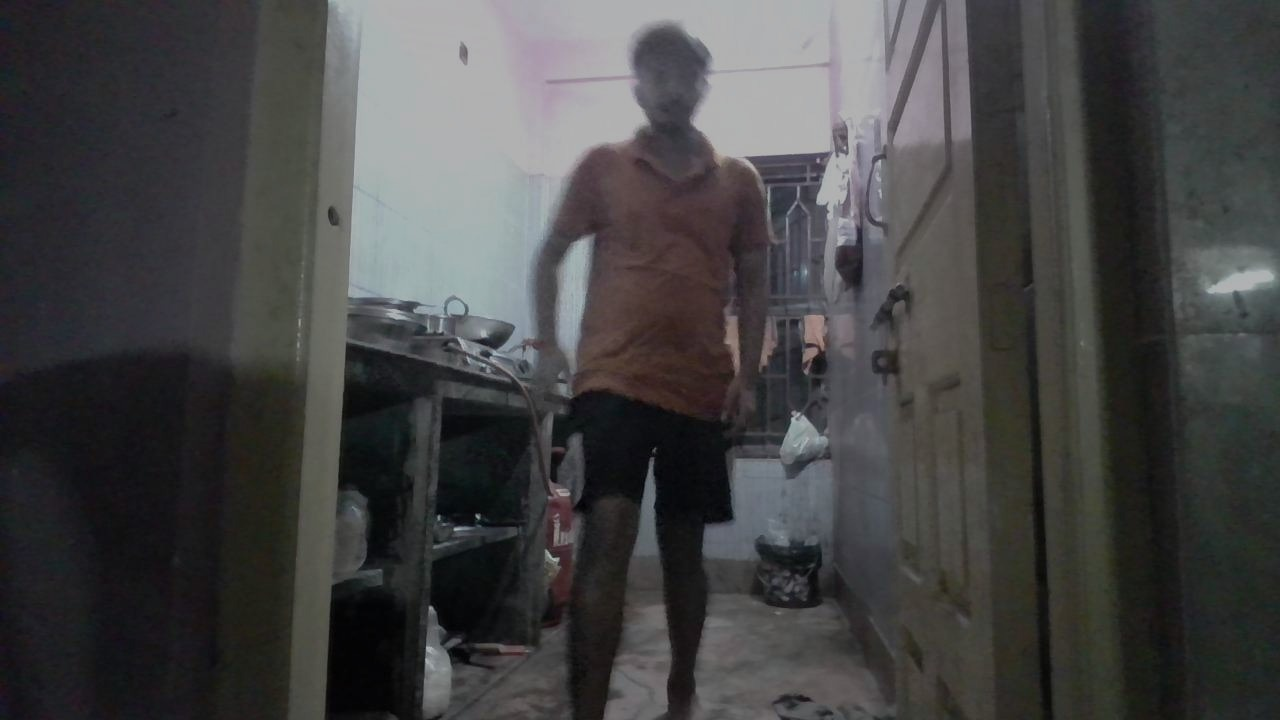red_box: (631, 356, 721, 413)
